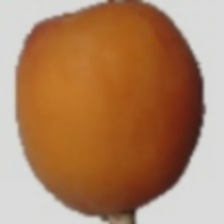apricot: (10, 12, 196, 211)
